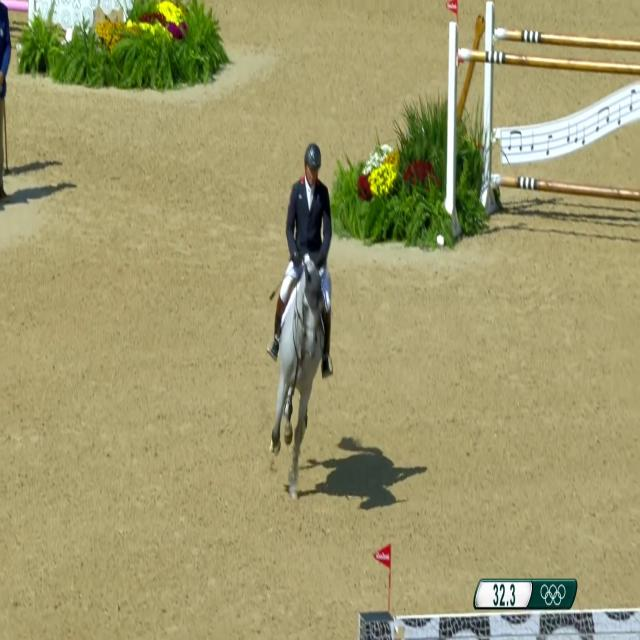Horse Rider: (273, 111, 340, 394)
Horse Running: (272, 253, 338, 518)
